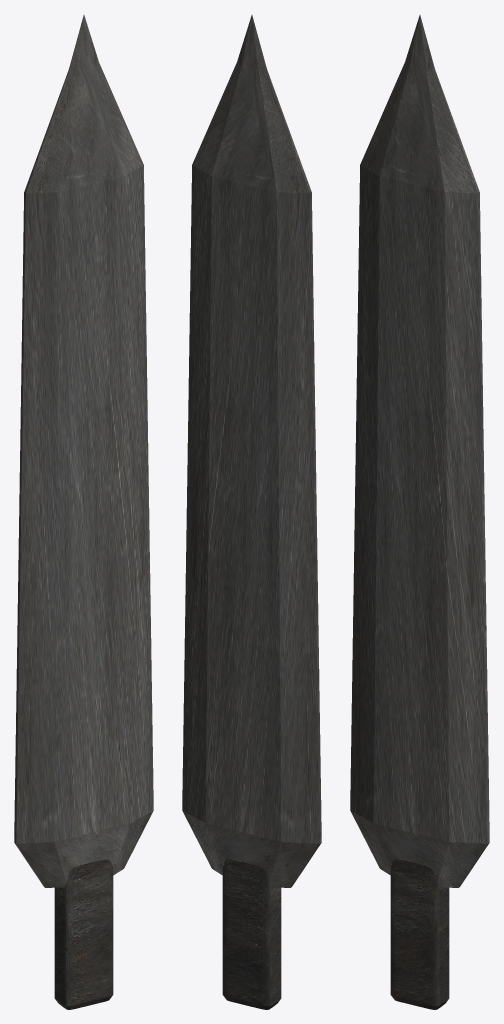
The model's file is blade.obj.
3 views of the same model, side by side, from view 1: azimuth 30°, elevation 25°; view 2: azimuth 150°, elevation 25°; view 3: azimuth 330°, elevation 25° (orthographic).
Visible parts, largest first — view 1: blade, tang; view 2: blade, tang; view 3: blade, tang.
Part boxes in pixels (left/top/right/bottom): blade: left=14, top=15, right=153, bottom=887; tang: left=54, top=859, right=113, bottom=1009; blade: left=182, top=15, right=321, bottom=887; tang: left=222, top=859, right=281, bottom=1009; blade: left=350, top=15, right=489, bottom=887; tang: left=390, top=859, right=449, bottom=1009.
Size of the model in its own units: 16.33 by 112 by 3.5.
Materials: 2 (2 with a texture image).
